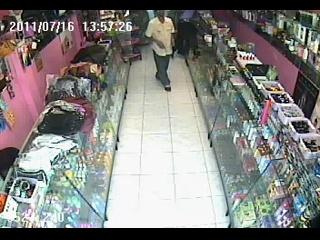Normal: (144, 10, 177, 92)
